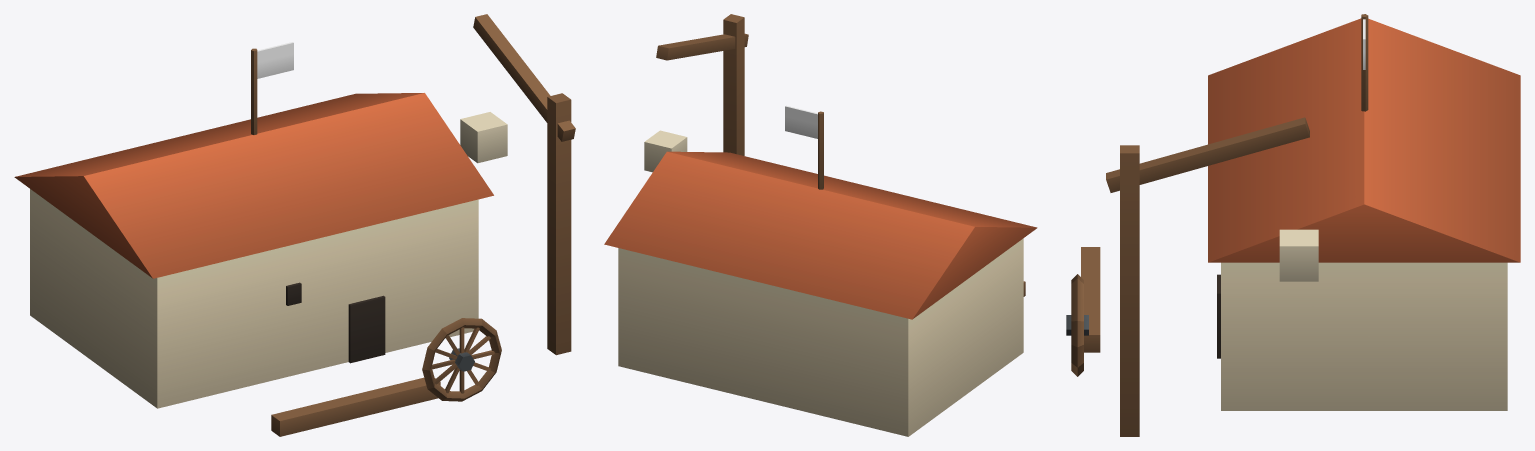
Rendered from WAR_ME.glb.
3 views of the same model, side by side, from view 1: azimuth 30°, elevation 25°; view 2: azimuth 150°, elevation 25°; view 3: azimuth 270°, elevation 25° (orthographic). The views are drawn at different scales.
Visible parts, largest first — view 1: Body, Wheel_parts, Flag; view 2: Body, Flag; view 3: Body, Wheel_parts.
Part boxes in pixels (x1=…): Body: x1=14, y1=14, x2=575, y2=436; Wheel_parts: x1=422, y1=318, x2=501, y2=401; Flag: x1=257, y1=42, x2=293, y2=78; Body: x1=604, y1=14, x2=1037, y2=436; Flag: x1=785, y1=105, x2=817, y2=138; Body: x1=1081, y1=14, x2=1520, y2=436; Wheel_parts: x1=1066, y1=274, x2=1088, y2=376.
Size of the model in its own units: 3.85 by 2.69 by 3.49.
Materials: 1 (1 with a texture image).
